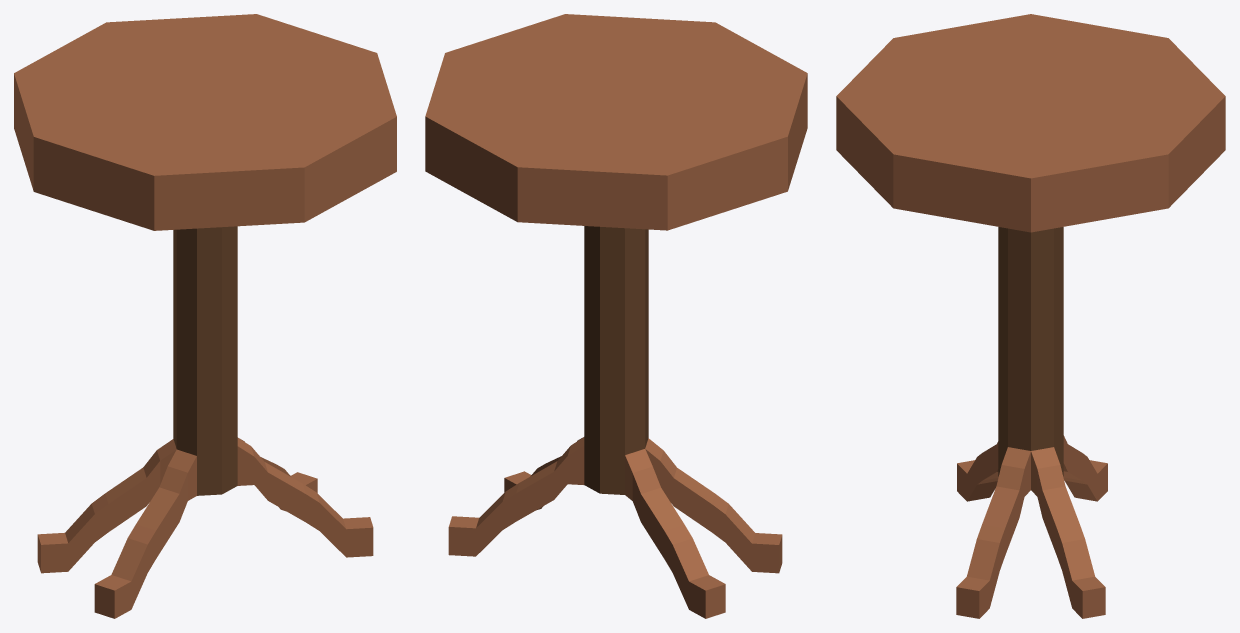
The model's file is Mesa.dae.
The picture shows the model from 3 angles, left to right: view 1: azimuth 30°, elevation 25°; view 2: azimuth 150°, elevation 25°; view 3: azimuth 270°, elevation 25°; orthographic projection.
Parts seen in each view (by area): view 1: Cilindro; view 2: Cilindro; view 3: Cilindro.
Part boxes in pixels (x1,y1,x2,y2): Cilindro: (14, 14, 396, 618); Cilindro: (425, 14, 807, 618); Cilindro: (836, 14, 1225, 618).
Bounding box in the file's own units: 2 × 2 × 2.59.
